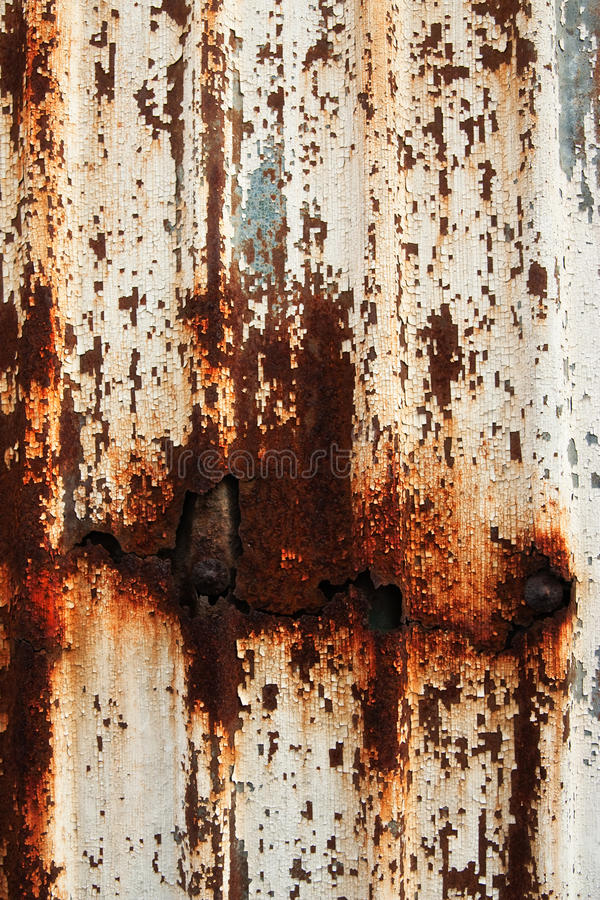rust: (166, 446, 262, 728), (281, 355, 351, 618), (494, 546, 573, 673)
